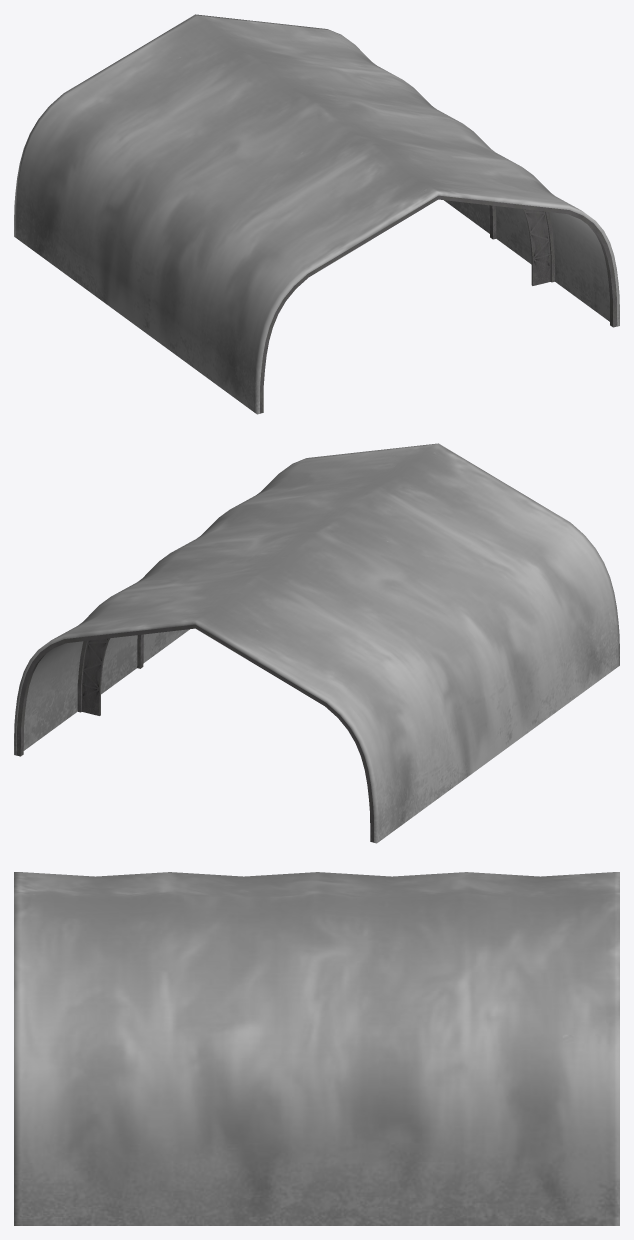
The model's file is hangar.glb.
The picture shows the model from 3 angles, top to bottom: view 1: azimuth 30°, elevation 25°; view 2: azimuth 150°, elevation 25°; view 3: azimuth 270°, elevation 25°; orthographic projection. The views are drawn at different scales.
Parts seen in each view (by area): view 1: clothBuilding001; view 2: clothBuilding001; view 3: clothBuilding001.
Boxes of the visible parts, x1,y1,x2,y2 form: clothBuilding001: (14, 14, 619, 414); clothBuilding001: (14, 443, 619, 843); clothBuilding001: (14, 872, 619, 1225).
Size of the model in its own units: 21.86 by 10.24 by 25.37.
1 material, 1 textured.
